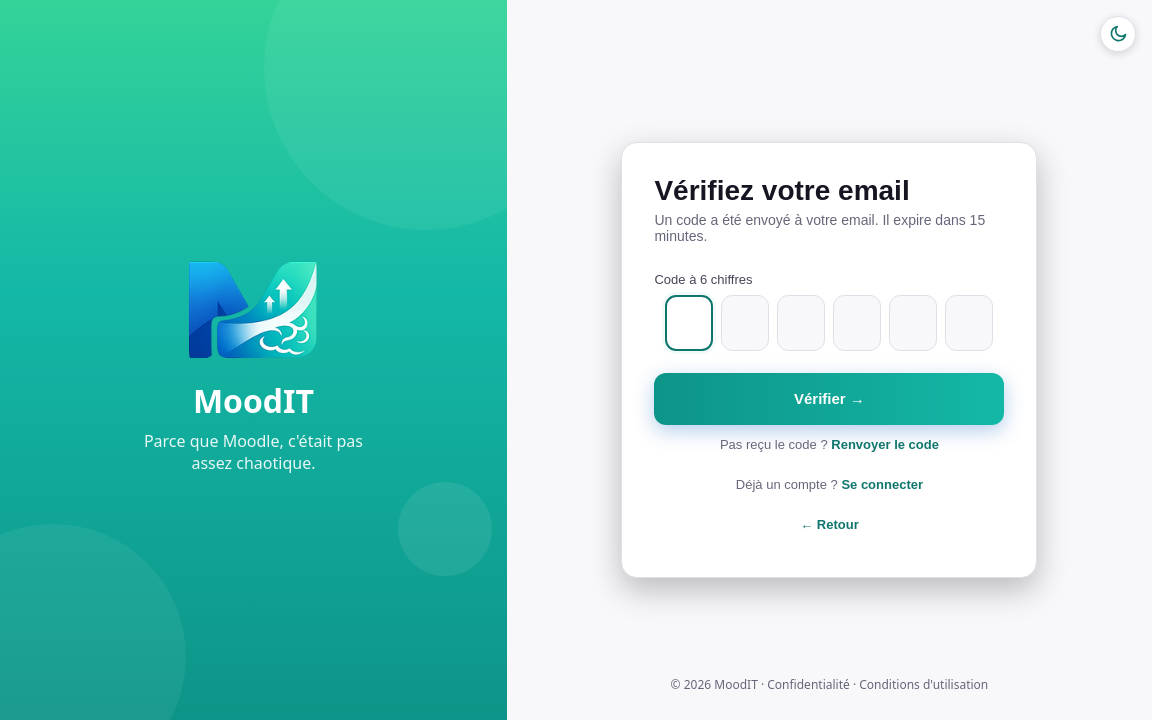
Scenario: VerifyCode › échec du renvoi : erreur affichée, pas de cooldown
Click the button "Renvoyer le code" at coordinates (885, 444), box [831,437,939,452]
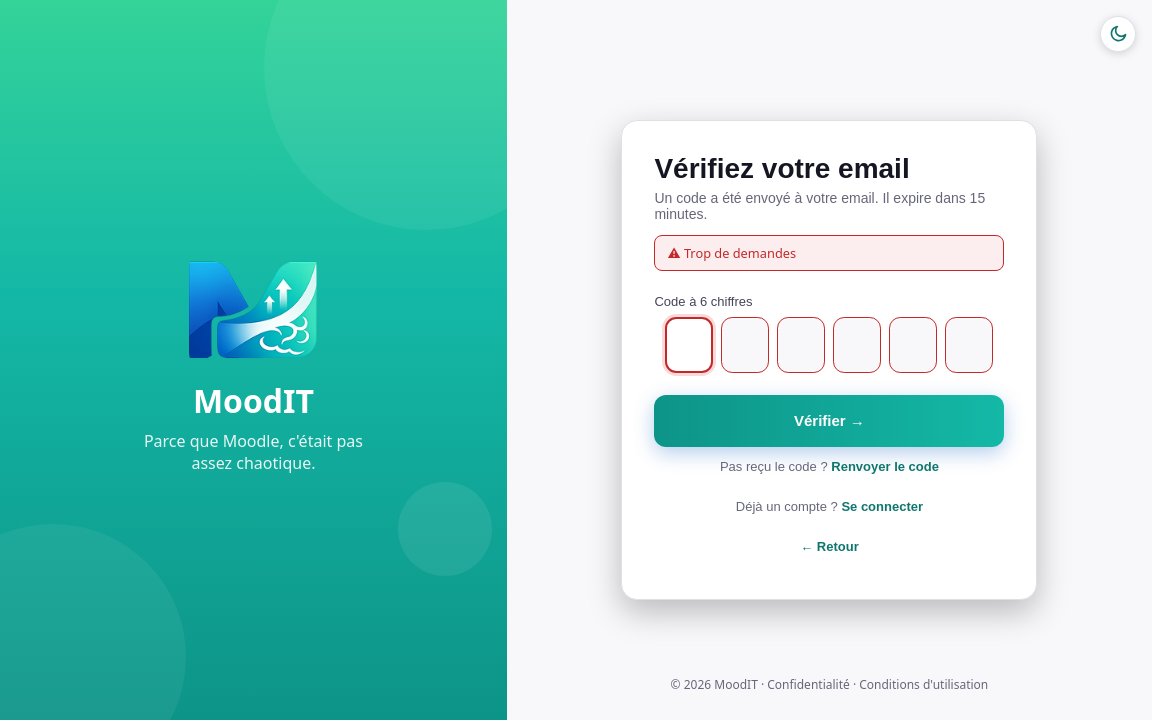
Expected: the button "Renvoyer le code" is shown, [831,459,939,474]
Now the text "⚠ Trop de demandes" is shown, box [654,235,1004,271]
